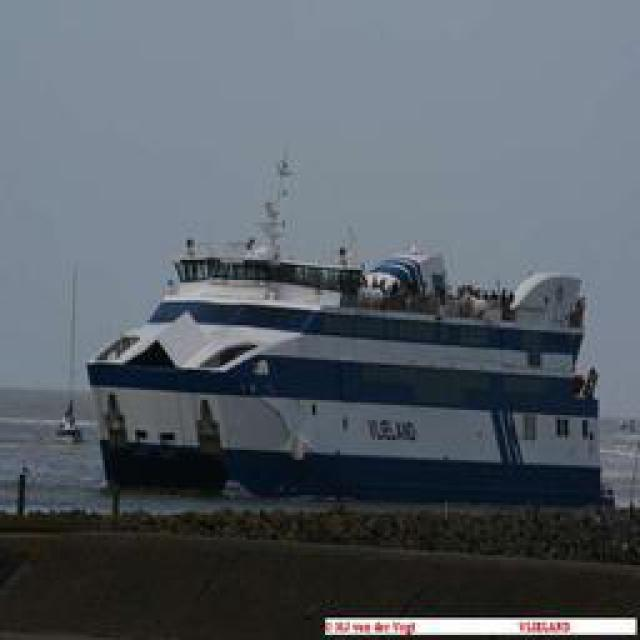Ship: (85, 204, 608, 497)
